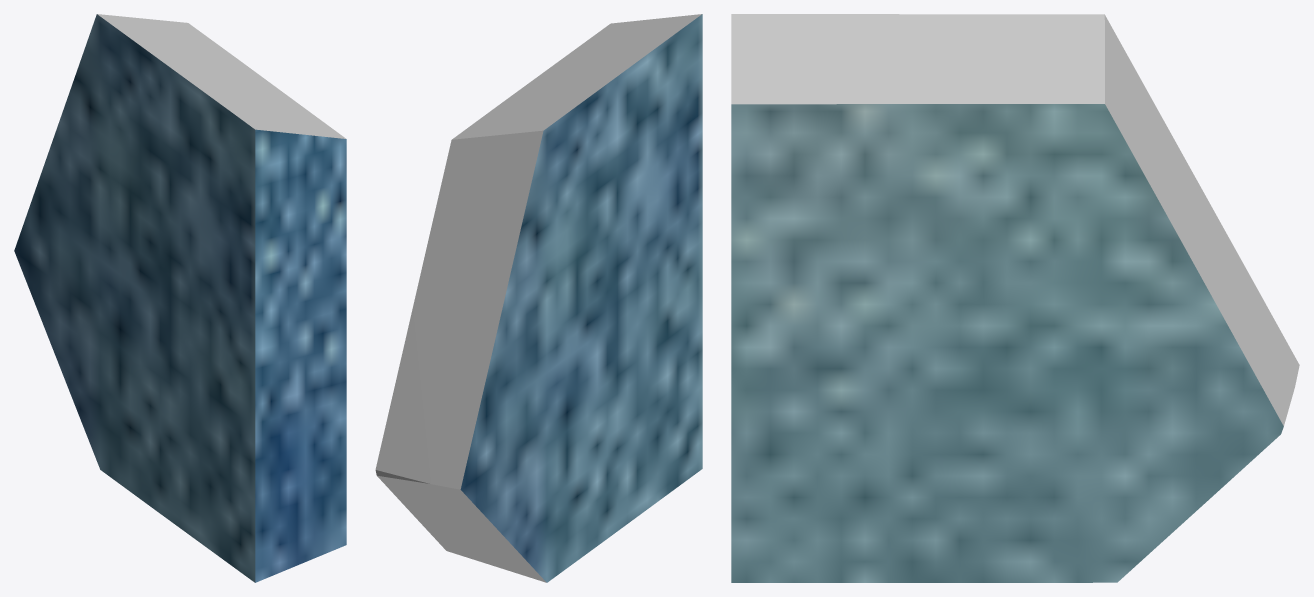
3 renders of one model, left to right at view 1: azimuth 30°, elevation 25°; view 2: azimuth 150°, elevation 25°; view 3: azimuth 270°, elevation 25°, orthographic. The views are drawn at different scales.
Parts seen in each view (by area): view 1: Cube_cell.009_Mesh.009; view 2: Cube_cell.009_Mesh.009; view 3: Cube_cell.009_Mesh.009.
Part boxes in pixels (bbox=[...]): Cube_cell.009_Mesh.009: bbox=[14, 14, 346, 582]; Cube_cell.009_Mesh.009: bbox=[375, 14, 702, 582]; Cube_cell.009_Mesh.009: bbox=[731, 14, 1299, 582].
Bounding box in the file's own units: 0.0832 × 0.3939 × 0.3792.
